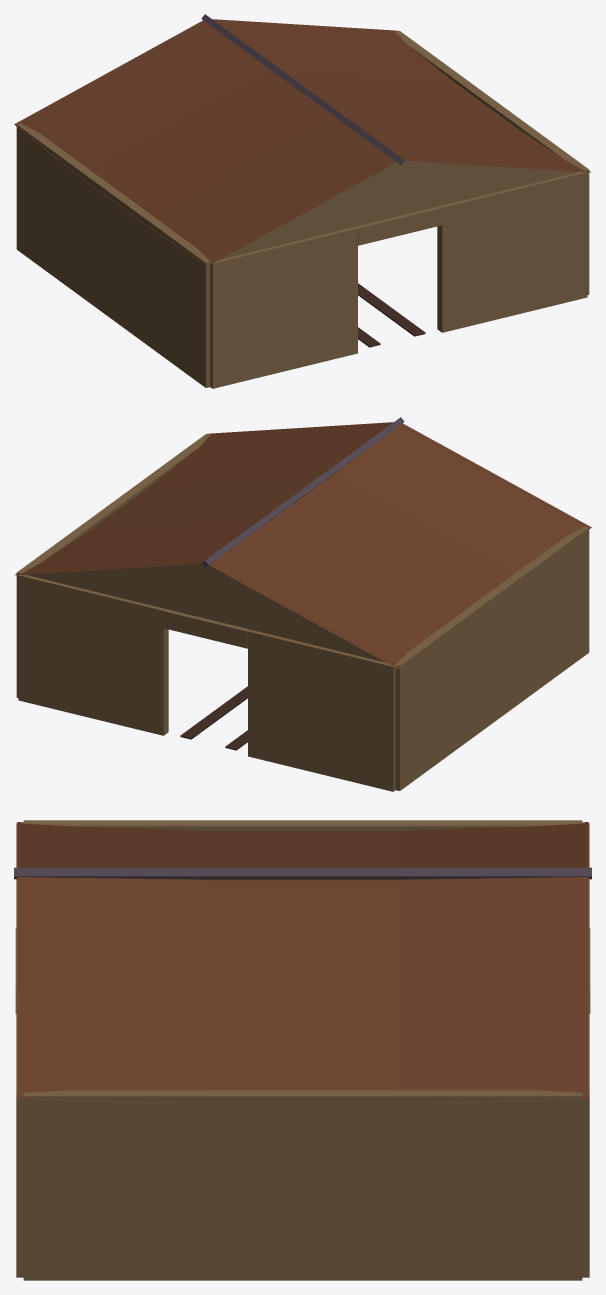
The picture shows the model from 3 angles, top to bottom: view 1: azimuth 30°, elevation 25°; view 2: azimuth 150°, elevation 25°; view 3: azimuth 270°, elevation 25°; orthographic projection. The views are drawn at different scales.
Parts seen in each view (by area): view 1: body; view 2: body; view 3: body.
Boxes of the visible parts, box(x1,y1,x2,y2) form: body: box(14, 14, 590, 388); body: box(15, 417, 591, 791); body: box(14, 820, 591, 1280).
Size of the model in its own units: 8.2 by 3.8 by 7.24.
